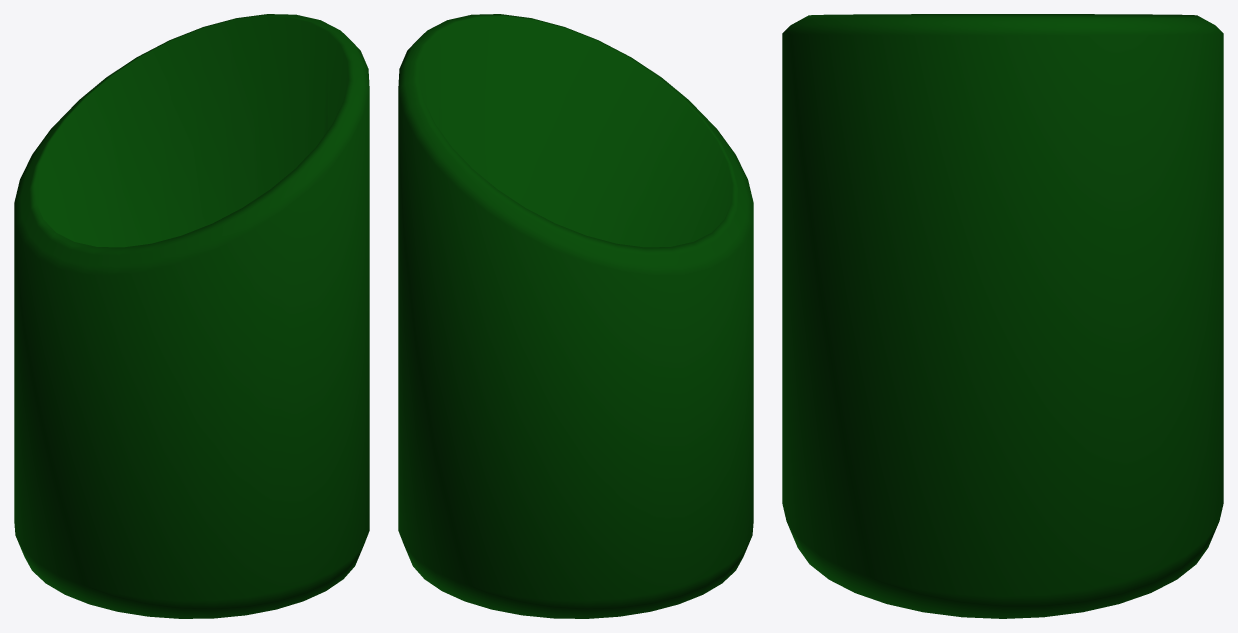
File: PencilCup.fbx
3 renders of one model, left to right at view 1: azimuth 30°, elevation 25°; view 2: azimuth 150°, elevation 25°; view 3: azimuth 270°, elevation 25°, orthographic. The views are drawn at different scales.
Parts seen in each view (by area): view 1: PencilCup; view 2: PencilCup; view 3: PencilCup.
Boxes of the visible parts, x1,y1,x2,y2 form: PencilCup: [14, 14, 369, 618]; PencilCup: [398, 14, 753, 618]; PencilCup: [782, 14, 1223, 618].
Bounding box in the file's own units: 2.78 × 4.16 × 2.78.
